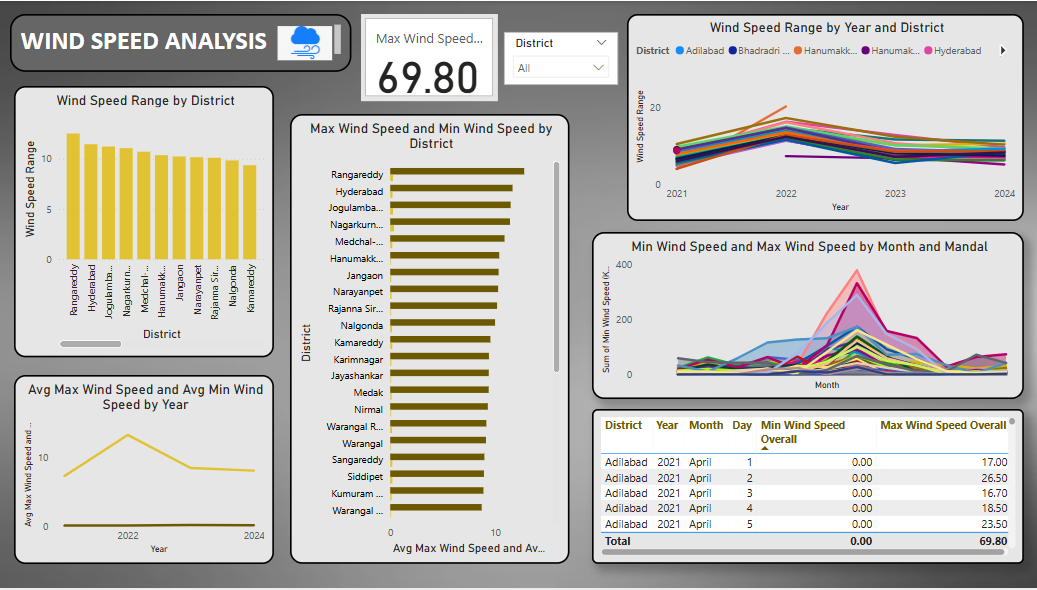

What the dashboard file says about the page in this screenshot:
{"tool":"powerbi","page":{"name":"Wind Speed Analysis","canvas":[1280,720],"ordinal":3},"visuals":[{"type":"clusteredBarChart","title":"Max Wind Speed and Min Wind Speed by District","fields":{"Y":["Weather_Data.Avg Max Wind Speed","Weather_Data.Avg Min Wind Speed"],"Category":["Weather_Data.District"]},"box":[357.9,138.1,343,552.4],"z":0},{"type":"lineChart","title":"Min Wind Speed and Max Wind Speed by Month and Mandal","fields":{"Y":["Sum(Weather_Data.Min Wind Speed (Kmph))"],"Series":["Weather_Data.Mandal"],"Category":["Weather_Data.Month"]},"box":[729.1,283.6,530.1,204.9],"z":1000},{"type":"tableEx","fields":{"Values":["Weather_Data.District","Weather_Data.Date.Variation.Date Hierarchy.Year","Weather_Data.Date.Variation.Date Hierarchy.Month","Weather_Data.Date.Variation.Date Hierarchy.Day","Weather_Data.Min Wind Speed Overall","Weather_Data.Max Wind Speed Overall"]},"box":[729.1,500.4,530.1,190.1],"z":2000},{"type":"columnChart","fields":{"Category":["Weather_Data.District"],"Y":["Weather_Data.Wind Speed Range"]},"box":[19.3,103.9,319.3,332.6],"z":3000},{"type":"lineChart","fields":{"Y":["Weather_Data.Avg Max Wind Speed","Weather_Data.Avg Min Wind Speed"],"Category":["Weather_Data.Year"]},"box":[19.3,458.8,319.3,231.6],"z":4000},{"type":"cardVisual","fields":{"Data":["Weather_Data.Max Wind Speed Overall"]},"box":[445.5,16.3,167.8,106.9],"z":5000},{"type":"lineChart","fields":{"Category":["Weather_Data.Date.Variation.Date Hierarchy.Year","Weather_Data.Date.Variation.Date Hierarchy.Month"],"Y":["Weather_Data.Wind Speed Range"],"Series":["Weather_Data.District"]},"box":[772.2,16.3,487.1,253.9],"z":6000},{"type":"slicer","fields":{"Values":["Weather_Data.District"]},"box":[620.7,38.6,139.6,65.3],"z":7000},{"type":"textbox","box":[14.8,16.3,418.7,71.3],"z":8000},{"type":"image","box":[319.3,25.2,114.3,52],"z":9000}]}

Visuals, with their boxes in screenshot pixels (x1, y1, x2, y2), scaled from the page's 1280x720 canvas onto the 1037x590 screenshot:
"Max Wind Speed and Min Wind Speed by District" clusteredBarChart: box(290, 113, 568, 566)
"Min Wind Speed and Max Wind Speed by Month and Mandal" lineChart: box(591, 232, 1020, 400)
tableEx - Weather_Data.District x Weather_Data.Date.Variation.Date Hierarchy.Year: box(591, 410, 1020, 566)
columnChart - Weather_Data.District x Weather_Data.Wind Speed Range: box(16, 85, 274, 358)
lineChart - Weather_Data.Avg Max Wind Speed x Weather_Data.Avg Min Wind Speed: box(16, 376, 274, 566)
cardVisual - Weather_Data.Max Wind Speed Overall: box(361, 13, 497, 101)
lineChart - Weather_Data.Date.Variation.Date Hierarchy.Year x Weather_Data.Date.Variation.Date Hierarchy.Month: box(626, 13, 1020, 221)
slicer - Weather_Data.District: box(503, 32, 616, 85)
textbox: box(12, 13, 351, 72)
image: box(259, 21, 351, 63)
